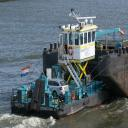tugboat: (10, 9, 110, 125)
